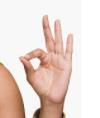left: (18, 13, 76, 101)
